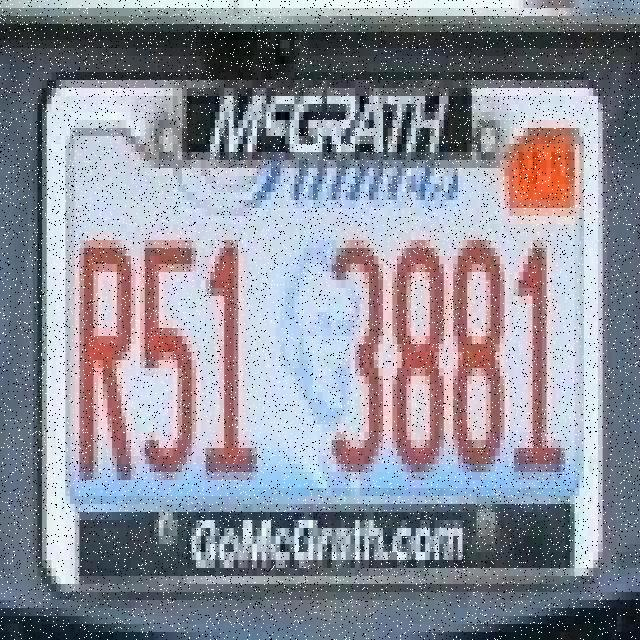licenseplate: (27, 36, 618, 628)
